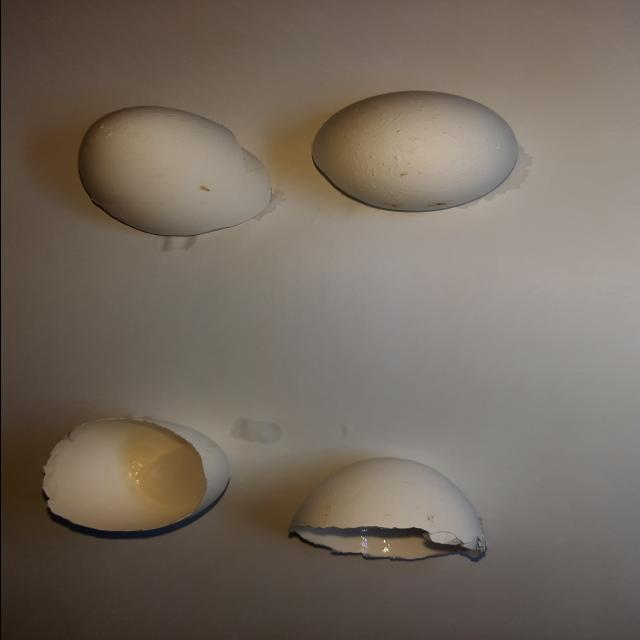egg shell: (71, 98, 287, 261), (303, 82, 536, 230), (272, 450, 500, 576), (30, 409, 240, 544)
